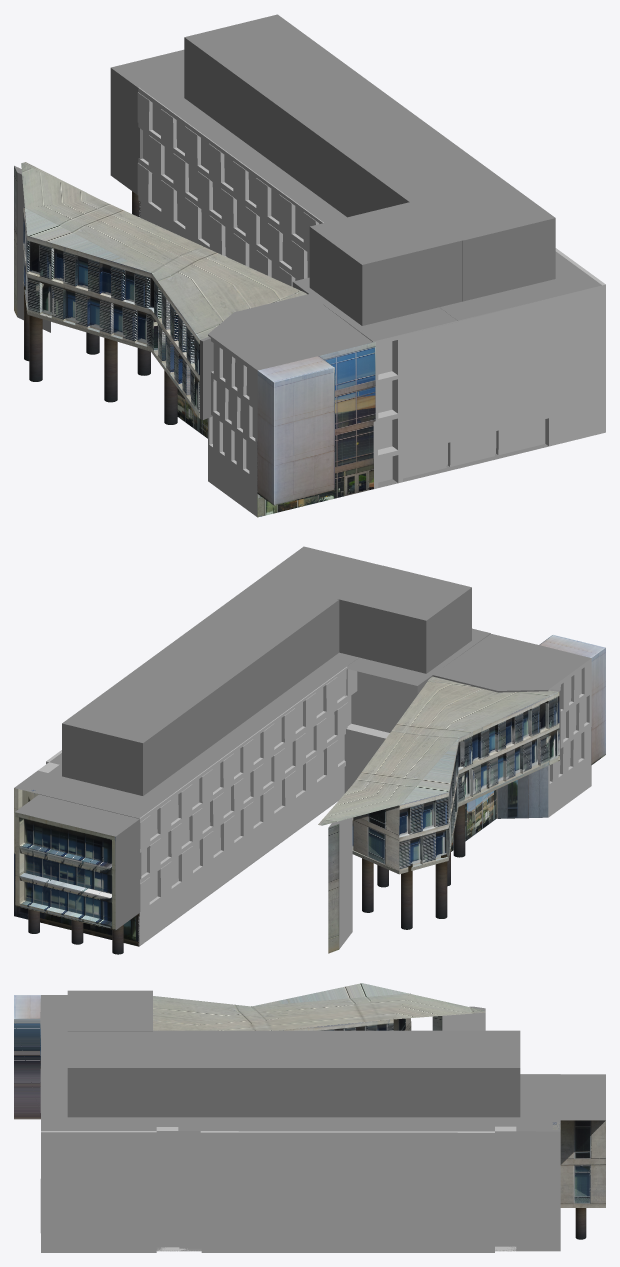
File: ITSB1.FBX
The picture shows the model from 3 angles, top to bottom: view 1: azimuth 30°, elevation 25°; view 2: azimuth 150°, elevation 25°; view 3: azimuth 270°, elevation 25°; orthographic projection. The views are drawn at different scales.
Parts seen in each view (by area): view 1: Box003 (×2), Box001, Box004 (×2), Box005 (×2), Object001, Cylinder005, Cylinder006; view 2: Box003 (×2), Box001, Box004 (×2), Box005 (×2), Object001, Box002, Cylinder005, Cylinder004, Cylinder009, Cylinder007; view 3: Box001, Box003 (×2), Box004 (×2), Box005 (×2), Object001, Cylinder003.
Part boxes in pixels (x1=…): Box003 (×2): x1=184, y1=14, x2=555, y2=517; Box001: x1=137, y1=76, x2=605, y2=488; Box004 (×2): x1=23, y1=199, x2=463, y2=419; Box005 (×2): x1=14, y1=49, x2=184, y2=332; Object001: x1=21, y1=162, x2=99, y2=207; Cylinder005: x1=29, y1=315, x2=42, y2=381; Cylinder006: x1=104, y1=338, x2=117, y2=402; Box003 (×2): x1=62, y1=546, x2=605, y2=818; Box001: x1=14, y1=628, x2=490, y2=946; Box004 (×2): x1=338, y1=565, x2=560, y2=874; Box005 (×2): x1=15, y1=794, x2=352, y2=953; Object001: x1=318, y1=785, x2=399, y2=825; Box002: x1=451, y1=789, x2=496, y2=851; Cylinder005: x1=435, y1=854, x2=447, y2=918; Cylinder004: x1=401, y1=863, x2=412, y2=929; Cylinder009: x1=362, y1=858, x2=373, y2=912; Cylinder007: x1=453, y1=804, x2=465, y2=857; Box001: x1=40, y1=1040, x2=560, y2=1252; Box003 (×2): x1=14, y1=995, x2=520, y2=1119; Box004 (×2): x1=67, y1=983, x2=411, y2=1031; Box005 (×2): x1=432, y1=1006, x2=605, y2=1207; Object001: x1=393, y1=993, x2=485, y2=1019; Cylinder003: x1=575, y1=1208, x2=586, y2=1239.
Size of the model in its own units: 83.49 by 44.15 by 138.
